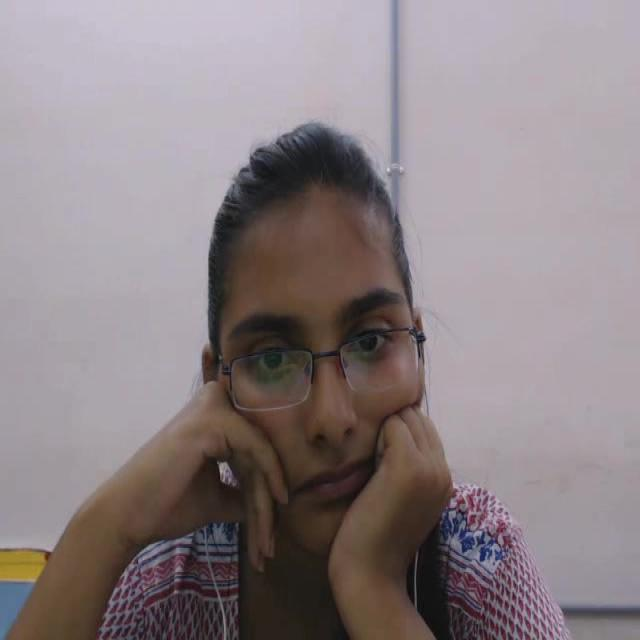Bored: (171, 107, 458, 607)
